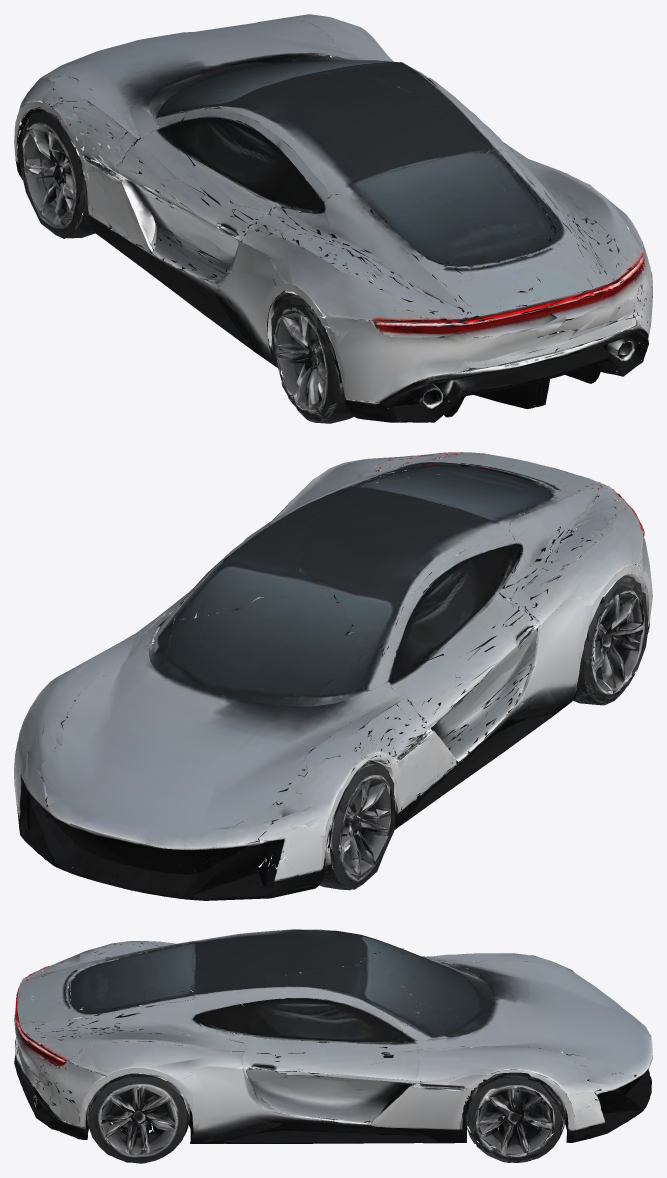
The model's file is roadster_mobile.glb.
3 views of the same model, one above another, from view 1: azimuth 30°, elevation 25°; view 2: azimuth 150°, elevation 25°; view 3: azimuth 270°, elevation 25° (orthographic). The views are drawn at different scales.
Visible parts, largest first — view 1: body, wheel_FL, wheel_RL; view 2: body, wheel_FL, wheel_RL; view 3: body, wheel_RR, wheel_FR.
Part boxes in pixels (x1,y1,x2,y2): body: [14, 14, 652, 423]; wheel_FL: [17, 101, 128, 238]; wheel_RL: [271, 291, 394, 421]; body: [14, 452, 652, 900]; wheel_FL: [298, 749, 396, 889]; wheel_RL: [523, 562, 648, 704]; body: [14, 929, 652, 1163]; wheel_RR: [89, 1073, 190, 1162]; wheel_FR: [464, 1069, 563, 1162].
Size of the model in its own units: 1.83 by 1.12 by 4.2.
1 material, 1 textured.
